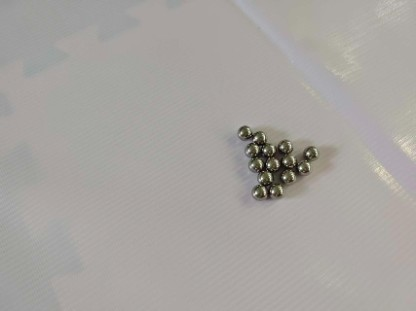ironball: (236, 124, 251, 139), (281, 169, 296, 183), (278, 138, 292, 152), (252, 185, 267, 198), (253, 131, 267, 144), (280, 154, 294, 167), (265, 157, 278, 170), (257, 171, 270, 184), (261, 144, 275, 156), (303, 146, 316, 158), (297, 160, 310, 172), (269, 185, 282, 197), (245, 144, 257, 157), (246, 159, 260, 170)
